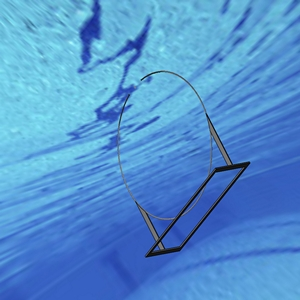circle: (115, 68, 251, 258)
